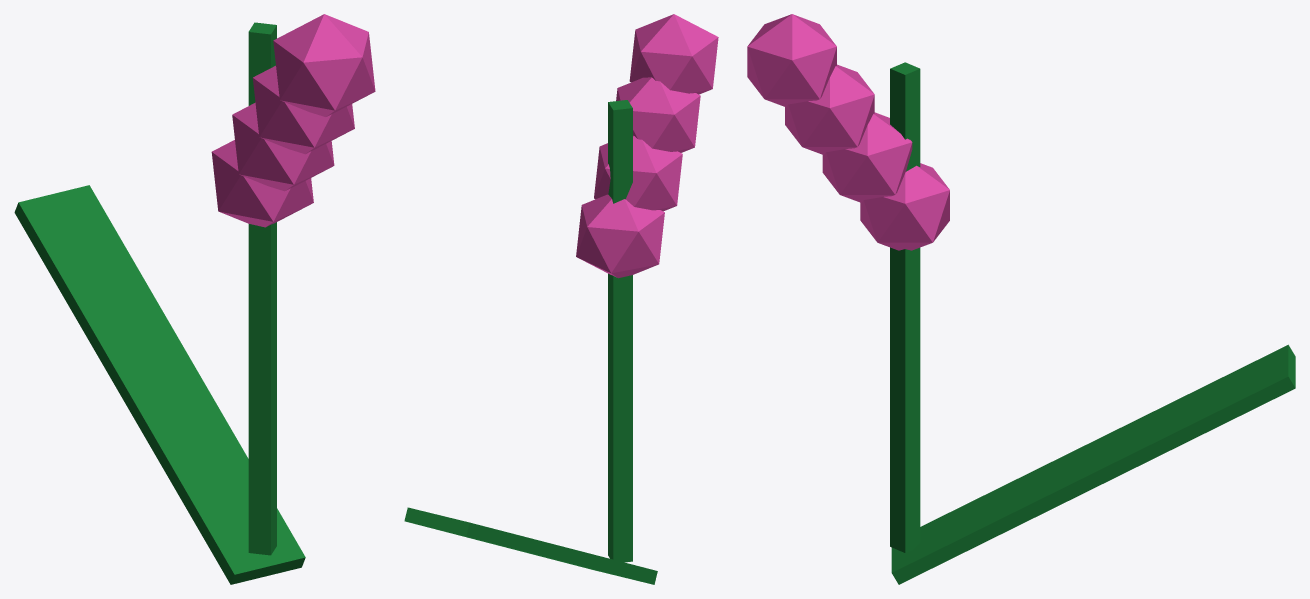
The model's file is orchid.glb.
3 views of the same model, side by side, from view 1: azimuth 30°, elevation 25°; view 2: azimuth 150°, elevation 25°; view 3: azimuth 270°, elevation 25° (orthographic). The views are drawn at different scales.
Visible parts, largest first — view 1: orchid; view 2: orchid; view 3: orchid.
Boxes of the visible parts, x1,y1,x2,y2 form: orchid: [14, 14, 375, 584]; orchid: [404, 14, 718, 584]; orchid: [747, 14, 1295, 584].
Bounding box in the file's own units: 0.1252 × 0.8126 × 0.7276.
